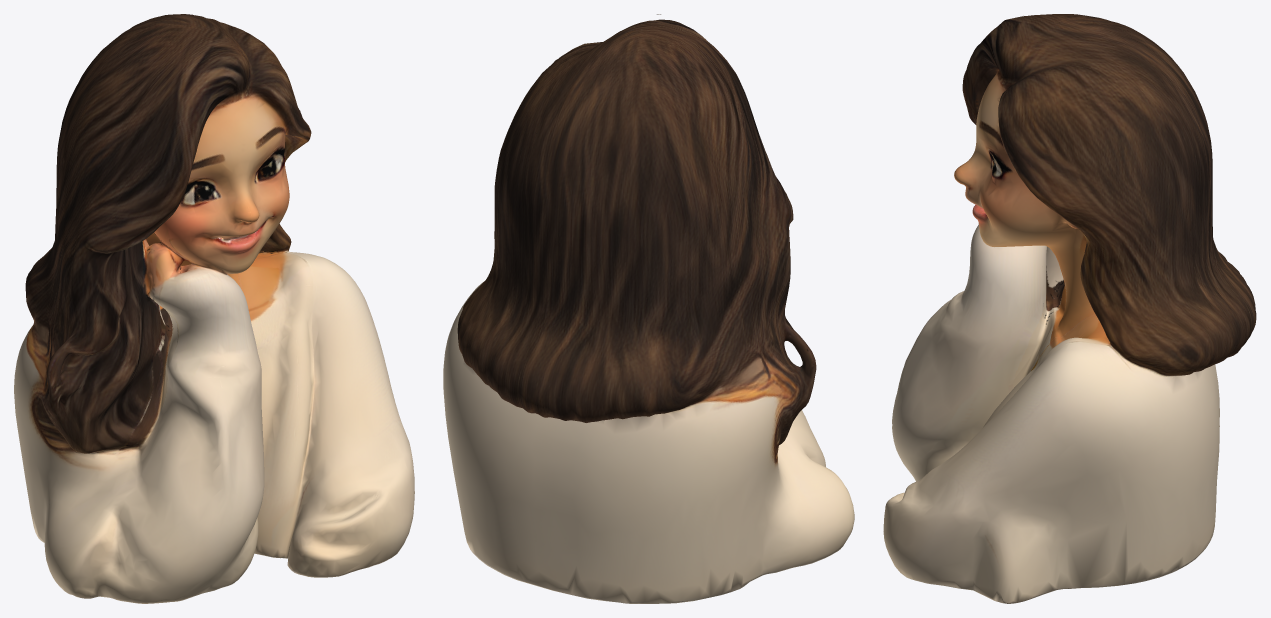
Rendered from ref-rodin-web-plain.glb.
The picture shows the model from 3 angles, left to right: view 1: azimuth 30°, elevation 25°; view 2: azimuth 150°, elevation 25°; view 3: azimuth 270°, elevation 25°; orthographic projection.
Parts seen in each view (by area): view 1: model; view 2: model; view 3: model.
Boxes of the visible parts, bbox=[...] form: model: bbox=[14, 14, 414, 603]; model: bbox=[443, 14, 854, 603]; model: bbox=[883, 14, 1256, 603].
Bounding box in the file's own units: 1.37 × 1.9 × 1.28.
Materials: 1 (1 with a texture image).
